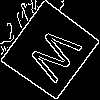W: (25, 25, 91, 91)
